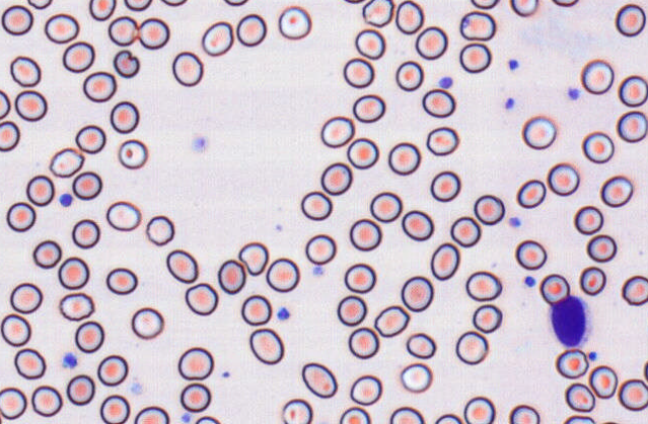MONO: (546, 294, 594, 350)
PLT: (192, 134, 209, 153), (62, 352, 79, 370), (56, 192, 73, 208), (275, 306, 291, 321), (508, 214, 523, 229), (523, 274, 538, 289), (502, 95, 516, 111), (437, 76, 454, 89), (506, 59, 521, 72), (569, 87, 582, 101), (180, 412, 192, 423), (589, 349, 599, 362)
RBC: (301, 362, 337, 398), (249, 328, 284, 364), (177, 346, 213, 380), (265, 257, 299, 292), (400, 275, 433, 311), (581, 59, 614, 94), (465, 270, 502, 301), (184, 282, 218, 315), (455, 330, 488, 364), (278, 5, 311, 39), (522, 116, 556, 149), (201, 21, 233, 56), (430, 242, 459, 280), (387, 142, 420, 175), (166, 249, 198, 283), (320, 115, 354, 147), (547, 162, 579, 196), (106, 200, 141, 231), (172, 51, 203, 86), (131, 307, 164, 339), (349, 218, 381, 251), (320, 162, 352, 195), (415, 26, 447, 59), (600, 175, 633, 207), (82, 71, 116, 102), (49, 147, 84, 177), (44, 13, 79, 43), (459, 11, 495, 40), (346, 137, 378, 169), (582, 131, 614, 163), (555, 348, 588, 379), (9, 282, 42, 313), (0, 313, 31, 346), (58, 256, 89, 289), (369, 191, 402, 222), (348, 326, 379, 359), (349, 374, 382, 405), (14, 90, 47, 121), (217, 259, 246, 294), (344, 262, 376, 293), (1, 4, 33, 35), (62, 41, 94, 72), (97, 354, 128, 386), (401, 210, 433, 241), (31, 385, 62, 417), (138, 17, 169, 49), (14, 348, 46, 379), (459, 42, 491, 73), (74, 320, 104, 353), (109, 100, 139, 133), (236, 13, 266, 46), (615, 3, 645, 36), (59, 292, 94, 320), (107, 15, 138, 46), (515, 239, 546, 270), (354, 28, 385, 59), (473, 194, 504, 225), (305, 233, 336, 264), (343, 57, 374, 88), (300, 190, 332, 220), (10, 55, 40, 87), (400, 362, 432, 392), (617, 110, 647, 142), (588, 365, 617, 398), (618, 378, 647, 411), (422, 88, 455, 117), (395, 0, 423, 34), (539, 273, 569, 304), (564, 382, 595, 412), (336, 295, 366, 326), (450, 216, 480, 247), (430, 170, 460, 201), (180, 382, 211, 412), (241, 294, 271, 325), (618, 75, 647, 107), (426, 126, 458, 155), (352, 94, 385, 122), (117, 139, 147, 169), (66, 374, 95, 405), (99, 394, 130, 423), (6, 201, 35, 232), (26, 174, 54, 206), (0, 386, 27, 419), (472, 304, 502, 333), (71, 218, 100, 248), (145, 215, 174, 245), (72, 171, 102, 200), (75, 124, 105, 153), (516, 179, 546, 208), (395, 60, 423, 91), (463, 396, 495, 423), (32, 239, 61, 268), (574, 205, 603, 234), (586, 234, 616, 262), (106, 267, 137, 294), (362, 0, 393, 27), (405, 332, 435, 359), (579, 266, 606, 295), (621, 275, 647, 305), (281, 398, 312, 423), (134, 405, 169, 423), (0, 120, 20, 151), (389, 406, 424, 423), (508, 404, 539, 423), (89, 0, 116, 20), (339, 406, 370, 423), (510, 0, 538, 16), (123, 0, 152, 11), (0, 89, 10, 119), (434, 413, 463, 423), (563, 414, 595, 423), (470, 0, 499, 9), (27, 0, 52, 9), (195, 415, 221, 423), (551, 0, 579, 7), (159, 0, 187, 6), (223, 0, 248, 6), (643, 359, 648, 382), (342, 0, 365, 4), (599, 420, 620, 424)
Schistocyte: (374, 304, 411, 337), (239, 241, 270, 277), (113, 50, 140, 79)
